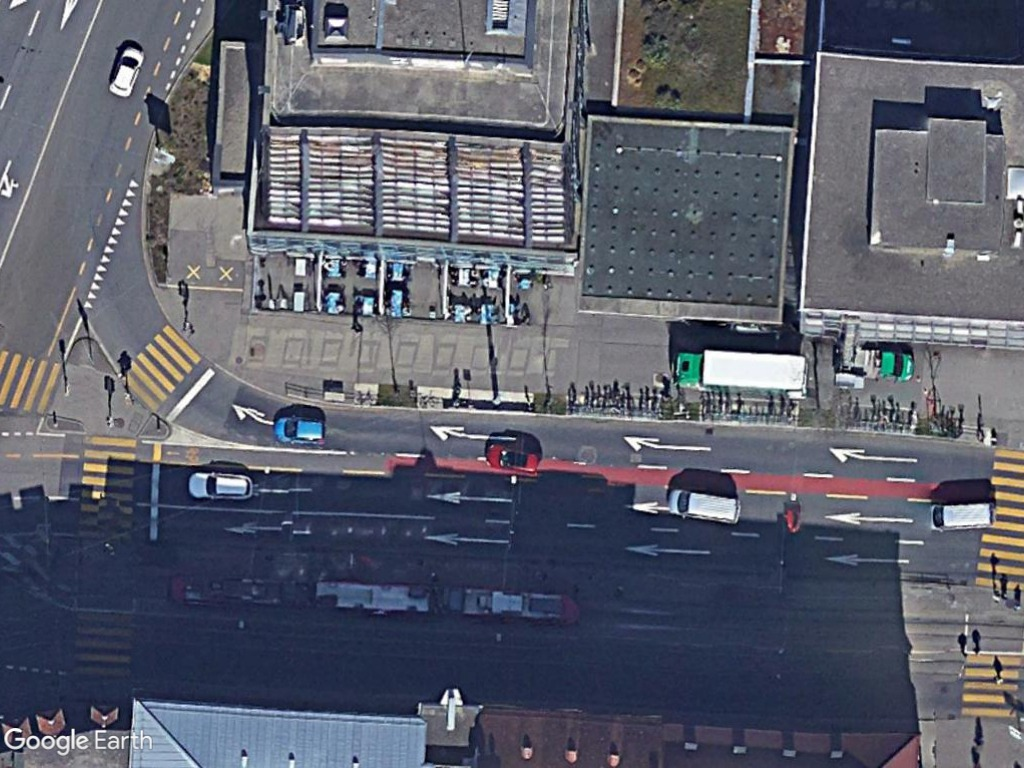car: (189, 470, 257, 503), (483, 442, 543, 477), (108, 44, 146, 99), (274, 416, 331, 446)
truck: (673, 344, 809, 399)
van: (666, 486, 745, 527)
